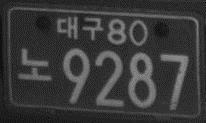0: (129, 19, 148, 47)
2: (95, 49, 125, 108)
7: (158, 52, 189, 112)
8: (126, 52, 157, 109), (106, 17, 126, 46)
9: (63, 47, 91, 105)
노: (17, 47, 52, 81)
대구_O: (56, 15, 103, 40)
